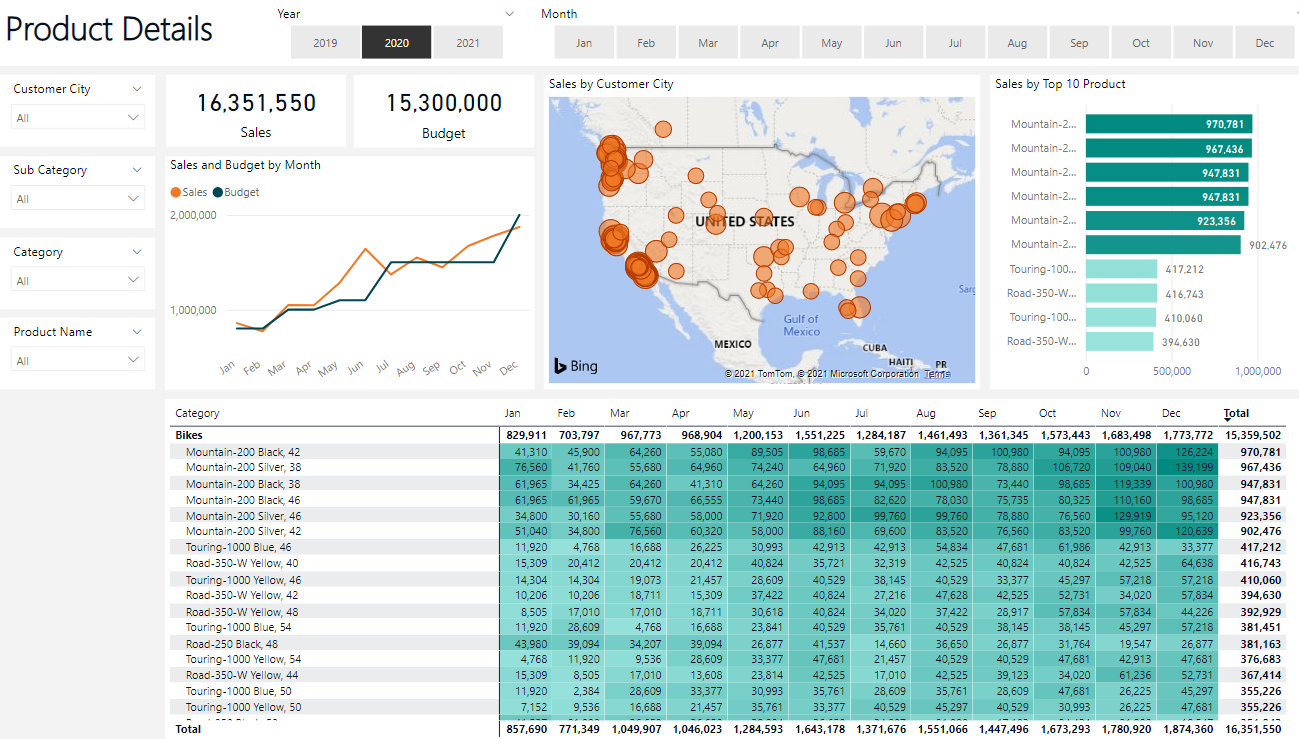

The page's visual inventory and layout, read from the dashboard file:
{"tool":"powerbi","page":{"name":"Product Details","canvas":[1280,720],"ordinal":2},"visuals":[{"type":"textbox","box":[0,0,1280,64],"z":0},{"type":"slicer","fields":{"Values":["DIM_Calendar.Year"]},"box":[256,0,256,64],"z":1000},{"type":"slicer","fields":{"Values":["DIM_Calendar.MonthShort"]},"box":[512,0,768,64],"z":2000},{"type":"slicer","fields":{"Values":["DIM_Customers.Customer City"]},"box":[0,73,150.5,69.3],"z":3000},{"type":"slicer","fields":{"Values":["DIM_Products.Product Category"]},"box":[0,229.9,150.5,69.3],"z":4000},{"type":"slicer","fields":{"Values":["DIM_Products.Product Name"]},"box":[0,308.4,150.5,69.3],"z":5000},{"type":"slicer","fields":{"Values":["DIM_Products.Sub Category"]},"box":[0,151.4,150.5,69.3],"z":6000},{"type":"lineChart","fields":{"Category":["DIM_Calendar.MonthShort"],"Y":["Analysis Metrics.Sales","Analysis Metrics.Budget"]},"box":[159.8,151.8,358.7,226.4],"z":7000},{"type":"card","fields":{"Values":["Analysis Metrics.Sales"]},"box":[160.7,72.8,174,69.2],"z":8000},{"type":"map","fields":{"Category":["DIM_Customers.Customer City"],"Size":["Analysis Metrics.Sales"]},"box":[527.3,72.8,423.5,304.5],"z":9000},{"type":"card","fields":{"Values":["Analysis Metrics.Budget"]},"box":[343.6,72.8,174.9,70.1],"z":10000},{"type":"pivotTable","fields":{"Rows":["DIM_Products.Product Category","DIM_Products.Product Name"],"Columns":["DIM_Calendar.MonthShort"],"Values":["Analysis Metrics.Sales"]},"box":[159.8,387.1,1120.4,332.9],"z":11000},{"type":"clusteredBarChart","title":"Sales by Top 10 Product","fields":{"Category":["DIM_Products.Product Name"],"Y":["Analysis Metrics.Sales"]},"box":[959.7,72.8,320.5,304.5],"z":12000}]}

Visuals, with their boxes in screenshot pixels (x1, y1, x2, y2), scaled from the page's 1280x720 canvas onto the 1299x739 screenshot:
textbox: box(0, 0, 1298, 66)
slicer - DIM_Calendar.Year: box(260, 0, 520, 66)
slicer - DIM_Calendar.MonthShort: box(520, 0, 1298, 66)
slicer - DIM_Customers.Customer City: box(0, 75, 153, 146)
slicer - DIM_Products.Product Category: box(0, 236, 153, 307)
slicer - DIM_Products.Product Name: box(0, 317, 153, 388)
slicer - DIM_Products.Sub Category: box(0, 155, 153, 227)
lineChart - DIM_Calendar.MonthShort x Analysis Metrics.Sales: box(162, 156, 526, 388)
card - Analysis Metrics.Sales: box(163, 75, 340, 146)
map - DIM_Customers.Customer City x Analysis Metrics.Sales: box(535, 75, 965, 387)
card - Analysis Metrics.Budget: box(349, 75, 526, 147)
pivotTable - DIM_Products.Product Category x DIM_Products.Product Name: box(162, 397, 1298, 738)
"Sales by Top 10 Product" clusteredBarChart: box(974, 75, 1298, 387)
